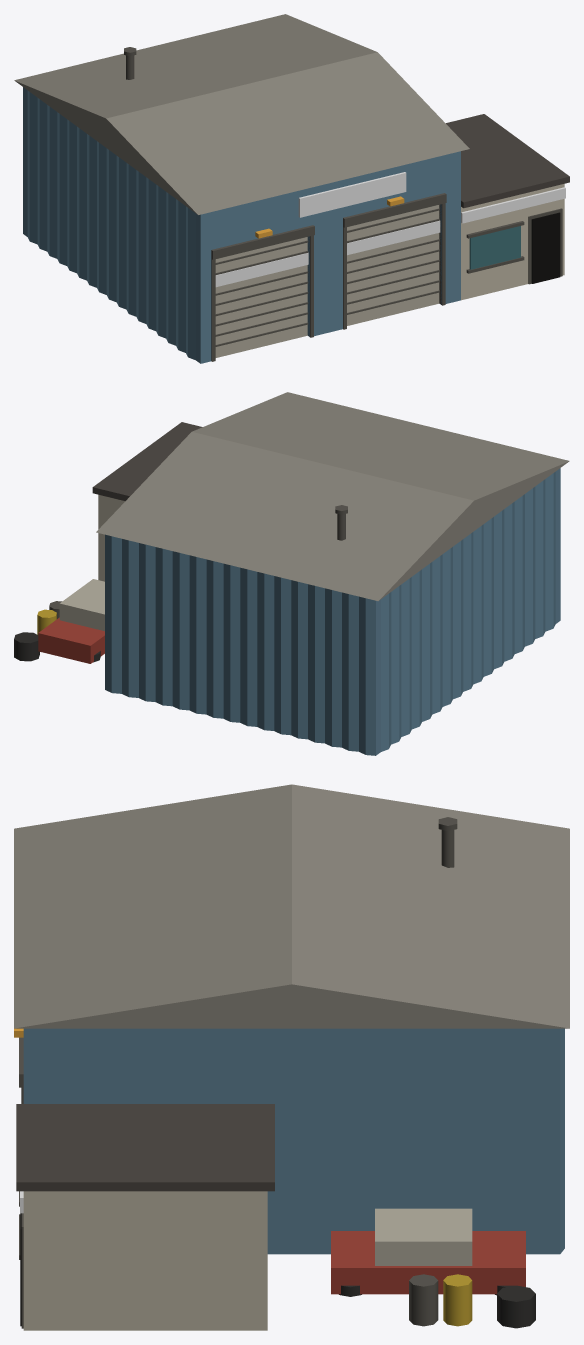
3 renders of one model, top to bottom at view 1: azimuth 30°, elevation 25°; view 2: azimuth 150°, elevation 25°; view 3: azimuth 270°, elevation 25°, orthographic. The views are drawn at different scales.
Parts seen in each view (by area): view 1: site_garage_restored; view 2: site_garage_restored; view 3: site_garage_restored.
Boxes of the visible parts, x1,y1,x2,y2 form: site_garage_restored: (14,14,569,363); site_garage_restored: (14,392,569,755); site_garage_restored: (14,784,569,1330).
Bounding box in the file's own units: 13.3 × 6.62 × 11.4.
